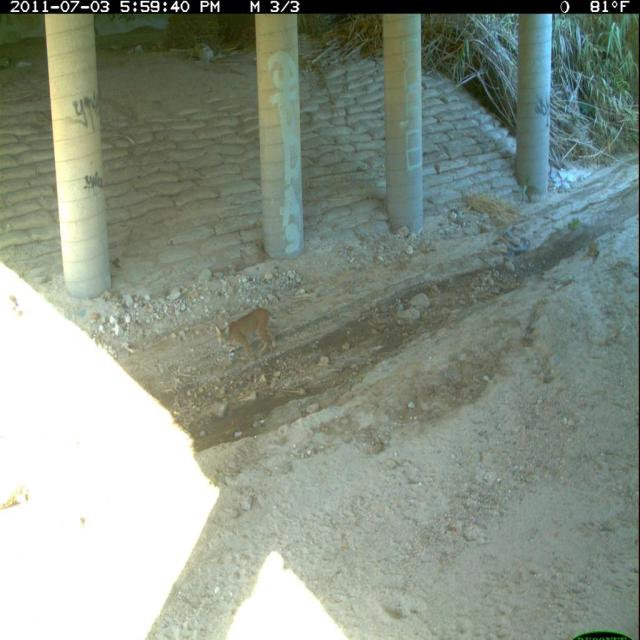bobcat: (211, 303, 281, 375)
